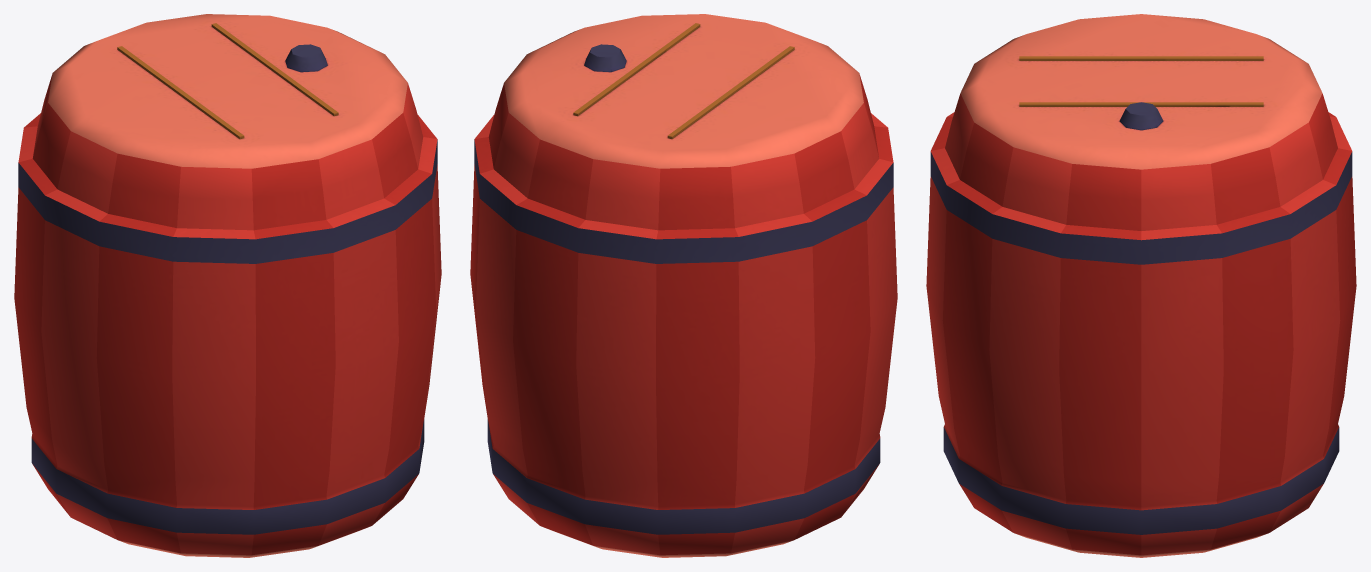
The model's file is fici_k.glb.
3 views of the same model, side by side, from view 1: azimuth 30°, elevation 25°; view 2: azimuth 150°, elevation 25°; view 3: azimuth 270°, elevation 25° (orthographic).
Parts seen in each view (by area): view 1: fici_k; view 2: fici_k; view 3: fici_k.
Boxes of the visible parts, <box> form: fici_k: <box>14,14,441,557</box>; fici_k: <box>470,14,897,557</box>; fici_k: <box>926,14,1356,557</box>.
Size of the model in its own units: 1.47 by 1.58 by 1.47.
Materials: 1 (1 with a texture image).
